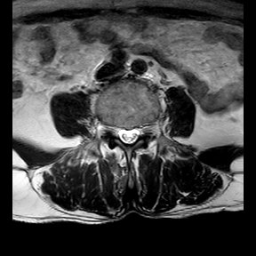CCS_stenosis: (125, 119, 133, 152)
LFS_normal: (141, 116, 149, 141)
LLS_normal: (133, 120, 141, 145)
RFS_normal: (108, 117, 117, 144)
RLS_normal: (117, 117, 125, 148)
